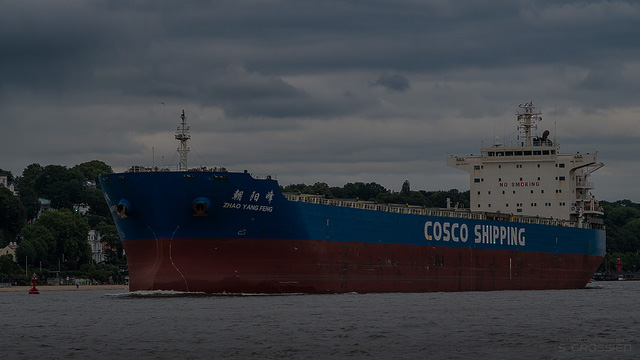bulk carrier: (97, 101, 612, 297)
